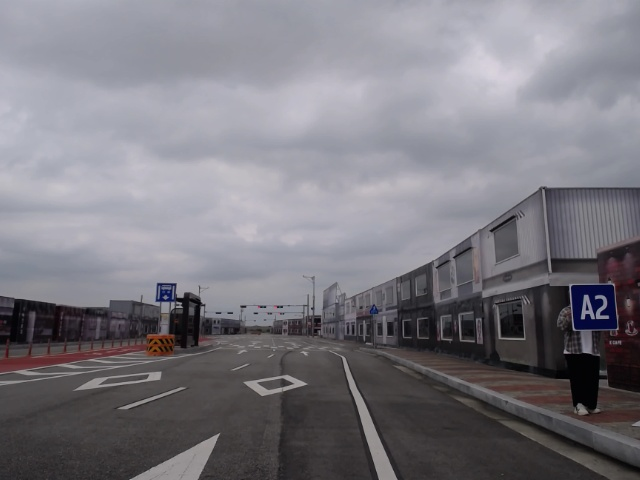delivery_a2: (569, 284, 619, 331)
